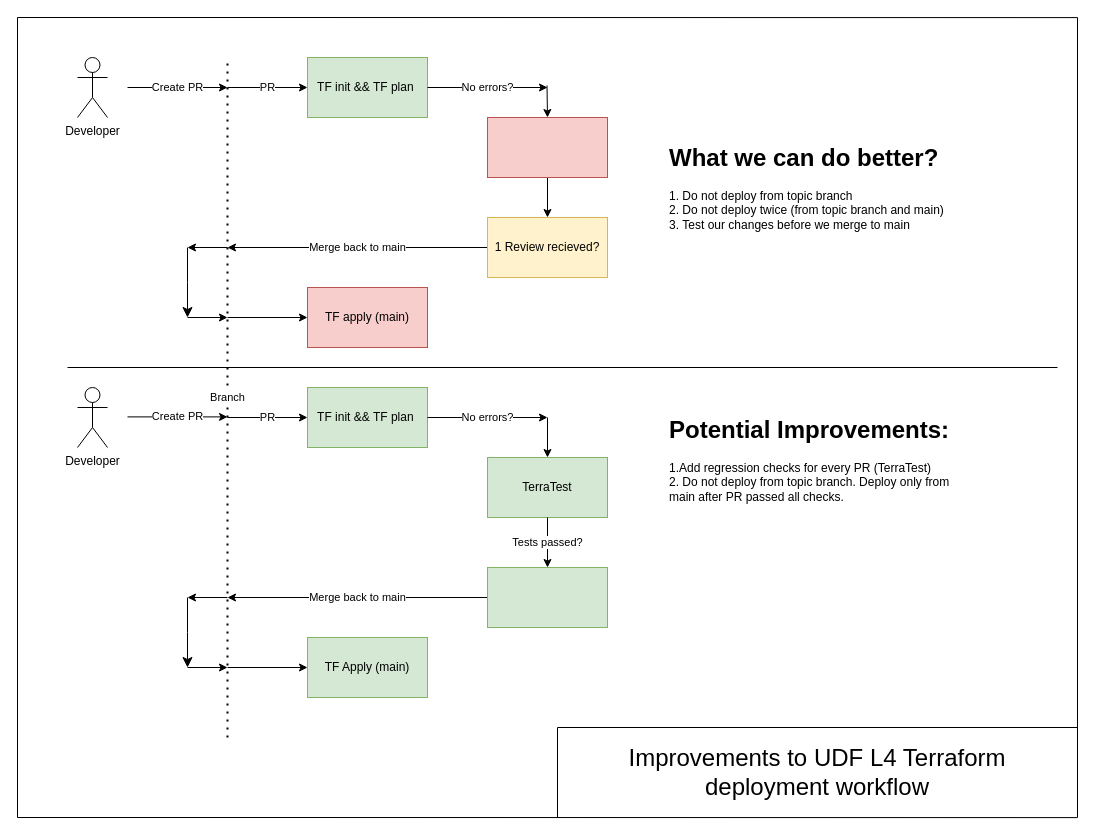
Image size: 1096x837. Some labels were removed from this diagram. Here are the shapes that lost their labels. From the top down, the box of each, then its label:
(486, 116, 608, 178): TF apply (topic branch)
(486, 566, 608, 628): 2 Reviews recieved?
